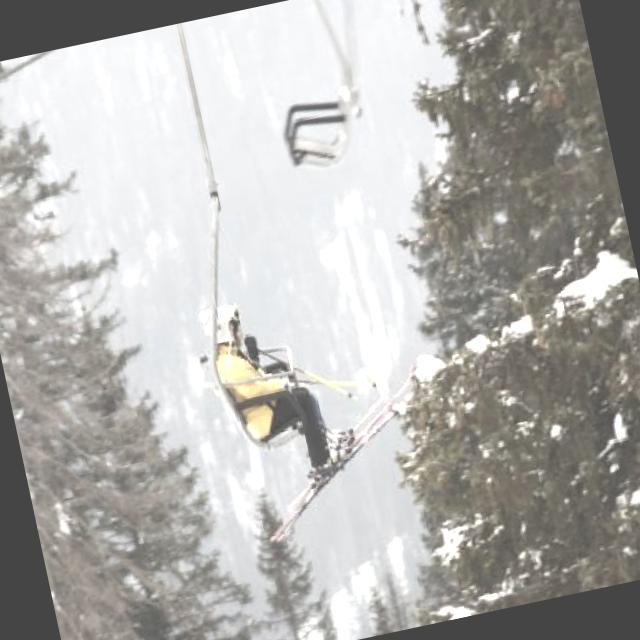Person: (200, 288, 352, 496)
